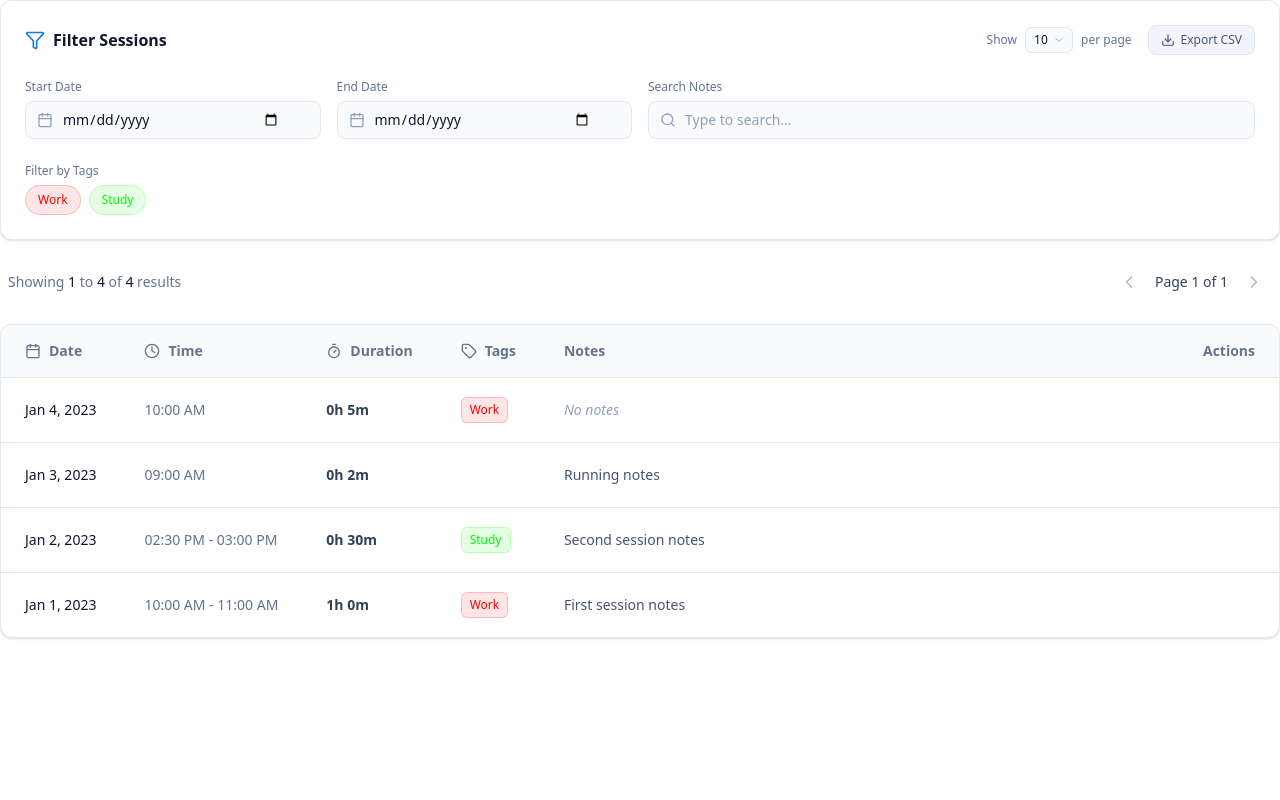
it: SessionsTable › filters by Start Date
In the date field labelled "Start Date": (173, 120) [25, 101, 320, 139], type "2023-01-02"
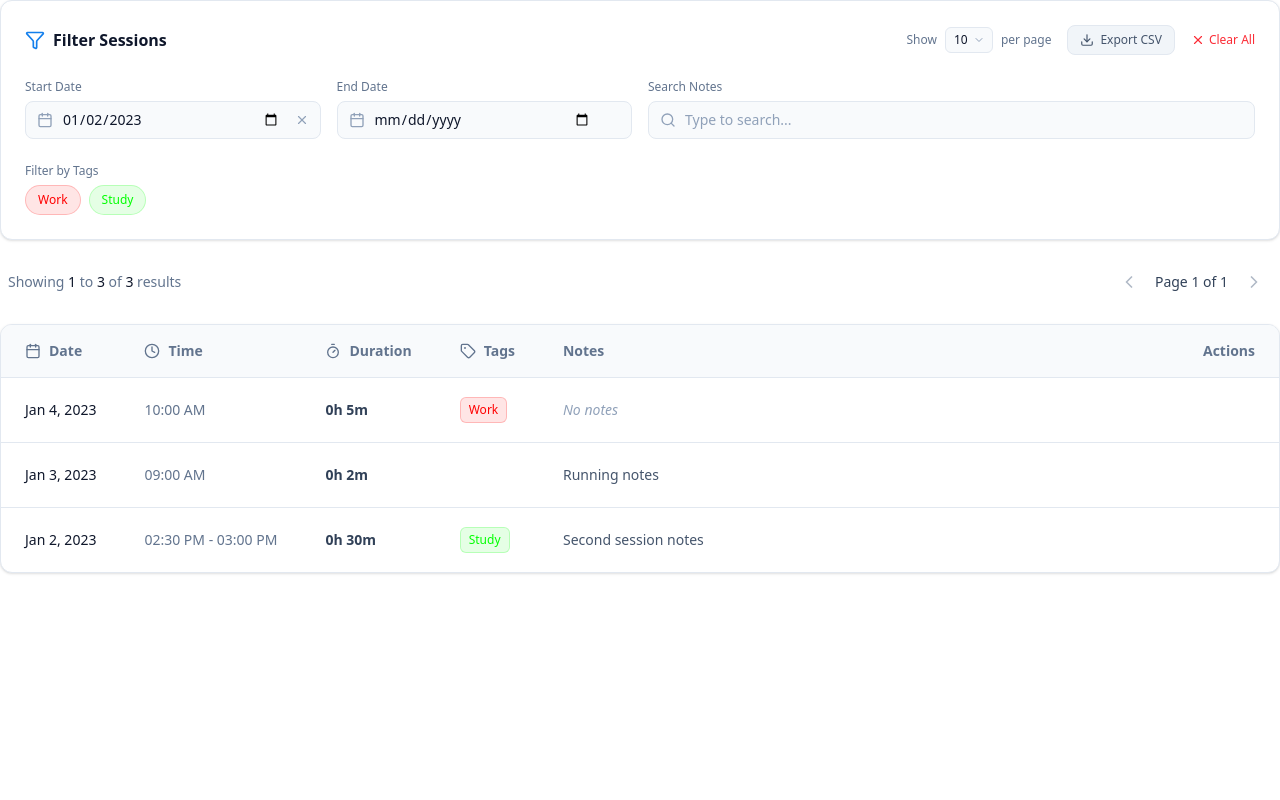
Expected: the text "Second session notes" is shown, [539, 508, 1159, 572]
Now the text "First session notes" is gone
